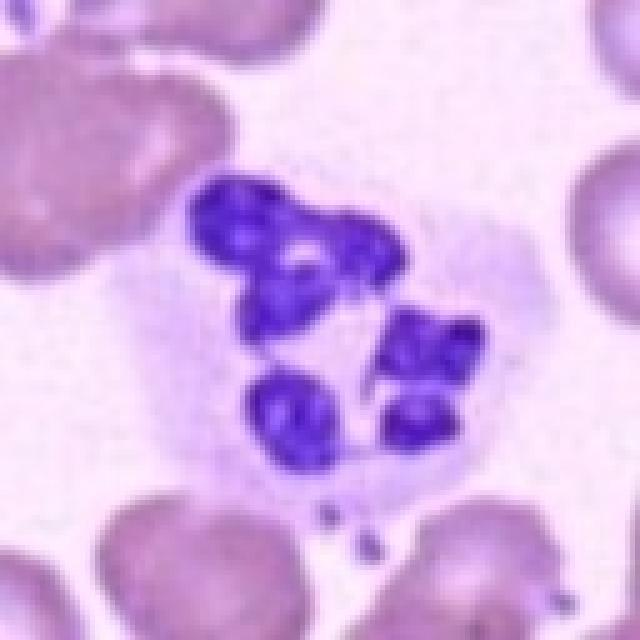neutro: (83, 107, 577, 554)
